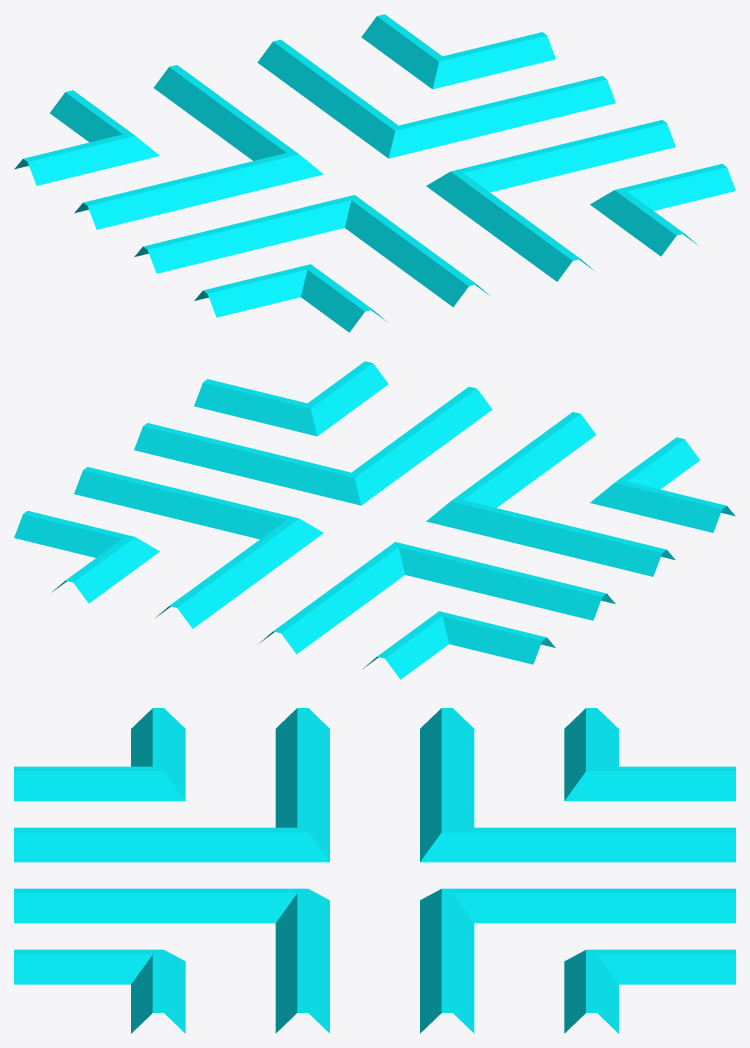
Rendered from Deco Wire X.fbx.
The picture shows the model from 3 angles, top to bottom: view 1: azimuth 30°, elevation 25°; view 2: azimuth 150°, elevation 25°; view 3: azimuth 270°, elevation 25°; orthographic projection. The views are drawn at different scales.
Parts seen in each view (by area): view 1: Deco Wire X; view 2: Deco Wire X; view 3: Deco Wire X.
Part boxes in pixels (x1,y1,x2,y2): Deco Wire X: (14,14,735,332); Deco Wire X: (14,361,735,679); Deco Wire X: (14,708,735,1033).
Size of the model in its own units: 100 by 3.19 by 100.
